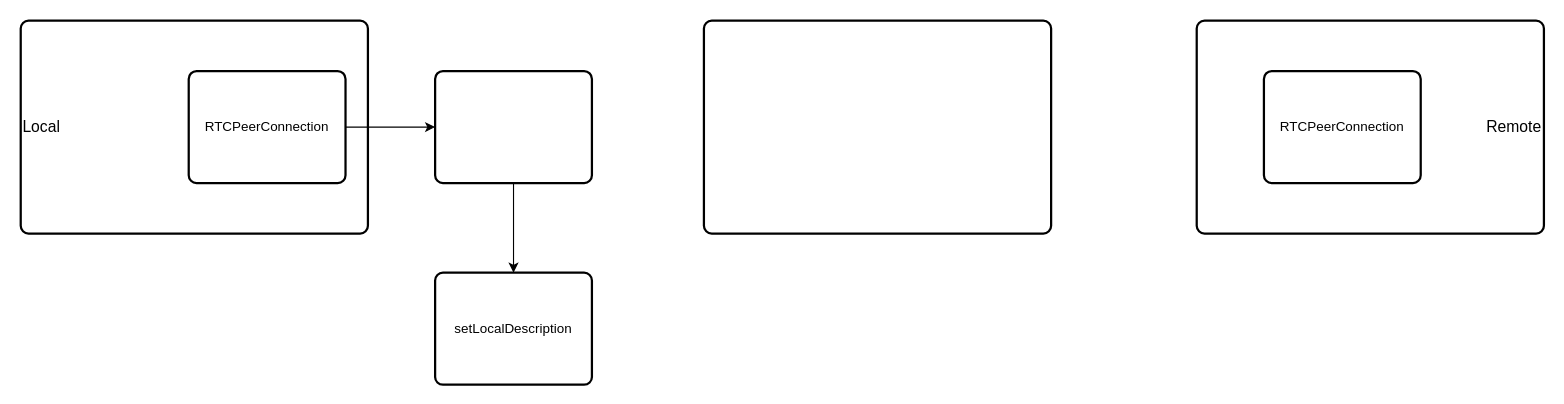
Image size: 1564x404. Some labels were removed from this diagram. The shapes that lost their labels are listed below. From the top down, each one's centre as x and y in pixels, then its label:
(x=512, y=126): createOffer
(x=877, y=126): Signalling Server
